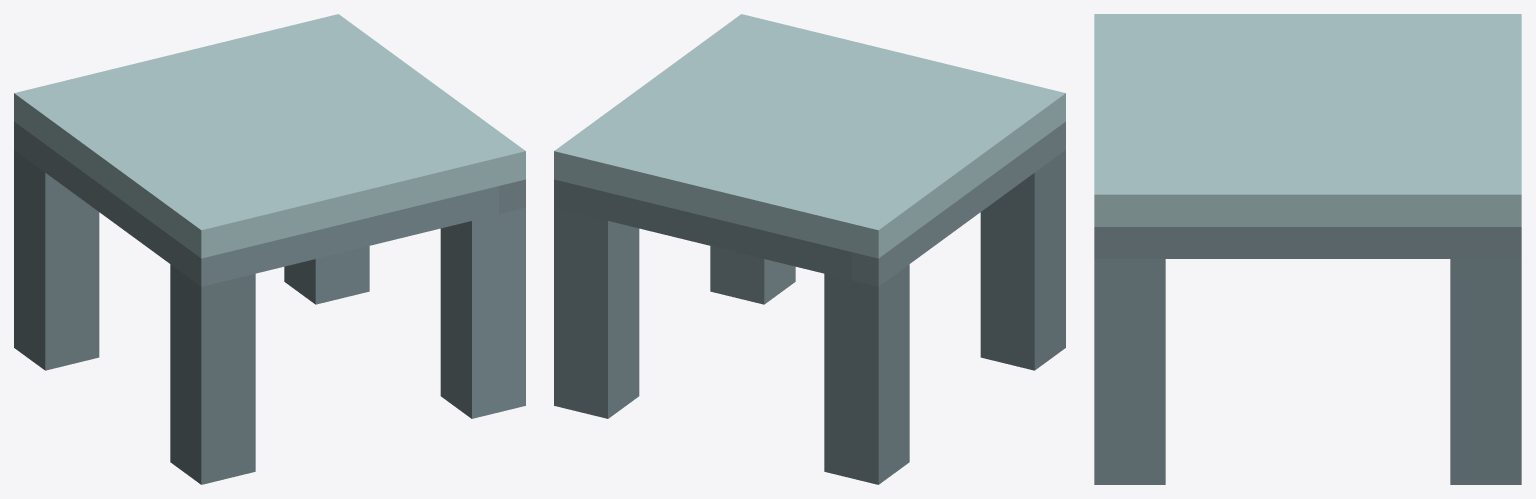
File: mesa_tallado_cristal_desgastada_01.glb
3 renders of one model, left to right at view 1: azimuth 30°, elevation 25°; view 2: azimuth 150°, elevation 25°; view 3: azimuth 270°, elevation 25°, orthographic. The views are drawn at different scales.
Parts seen in each view (by area): view 1: mesa_tallado_cristal_desgastada; view 2: mesa_tallado_cristal_desgastada; view 3: mesa_tallado_cristal_desgastada.
Boxes of the visible parts, x1,y1,x2,y2 form: mesa_tallado_cristal_desgastada: [14, 14, 525, 484]; mesa_tallado_cristal_desgastada: [554, 14, 1065, 484]; mesa_tallado_cristal_desgastada: [1094, 14, 1521, 484].
Size of the model in its own units: 1 by 0.75 by 1.
